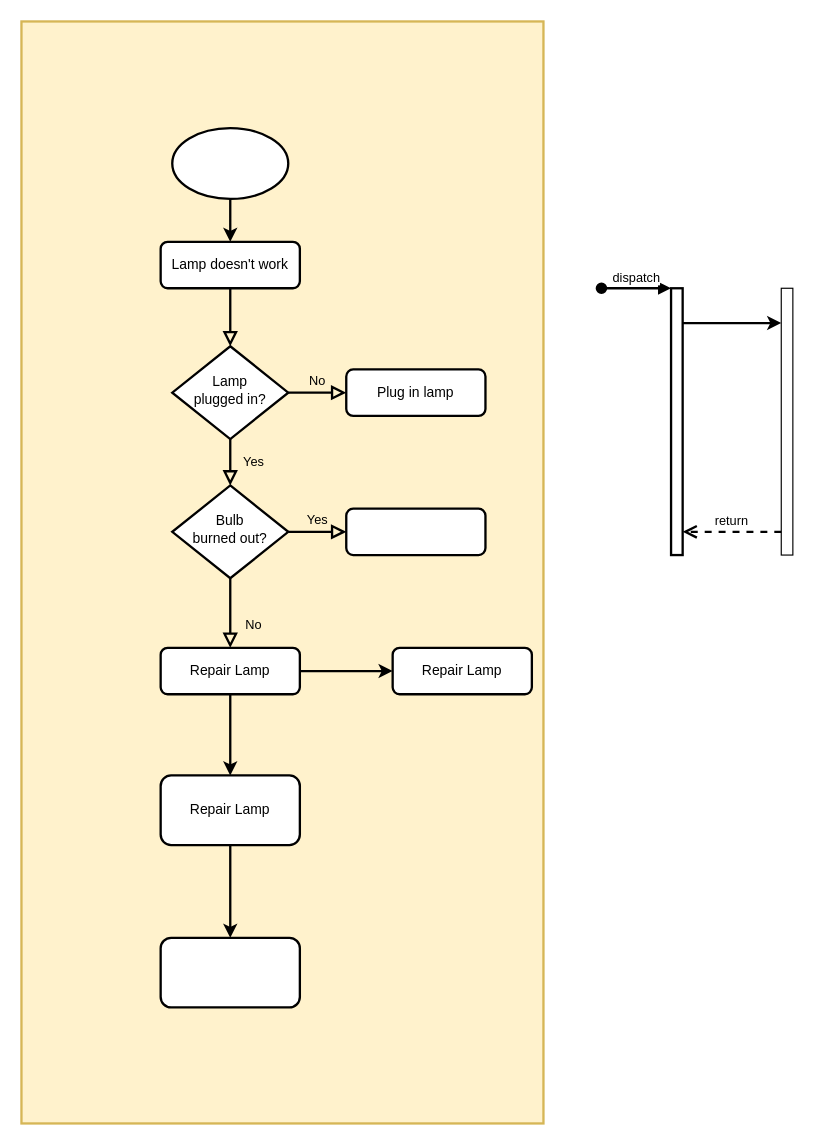
Some shapes in this 813 by 1144 pixel diagram are drawn without their labels. Here are the shapes that lost their labels. From the top down, the centre of each, then its label:
At pixel 230 163: "start".
At pixel 415 531: "Replace Bulb".
At pixel 229 972: "Test".
